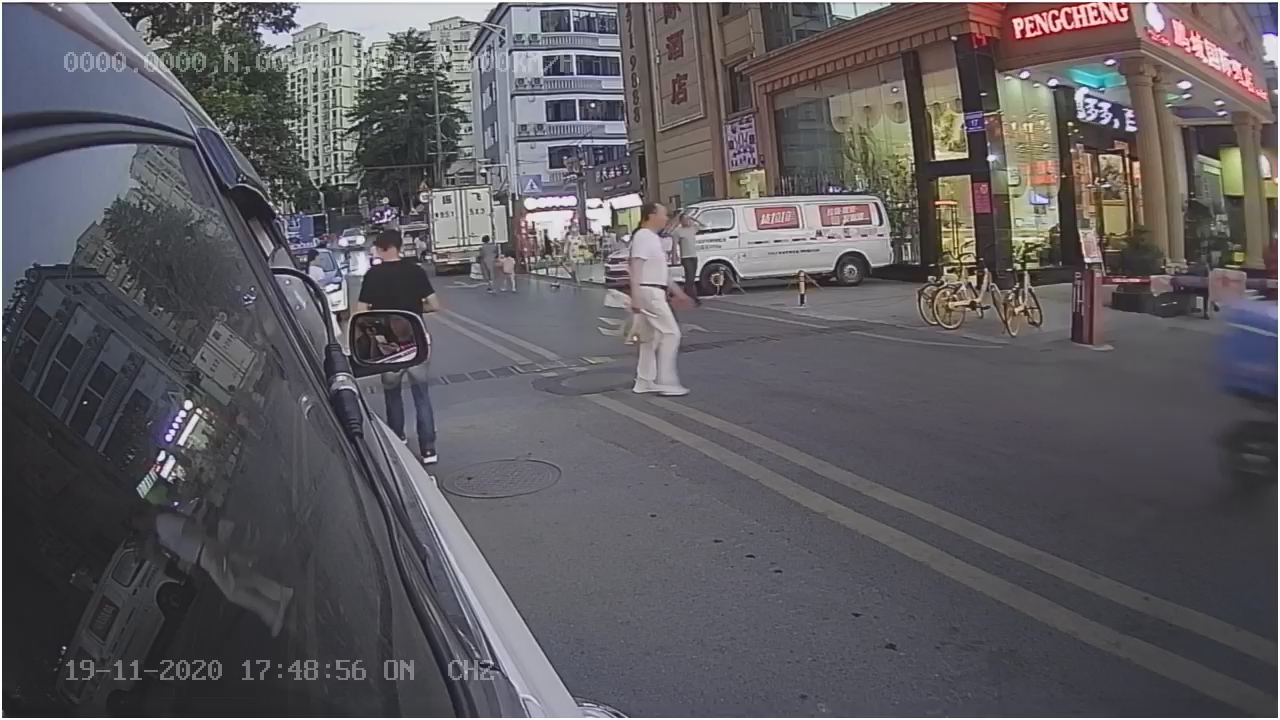person: (614, 201, 699, 403)
